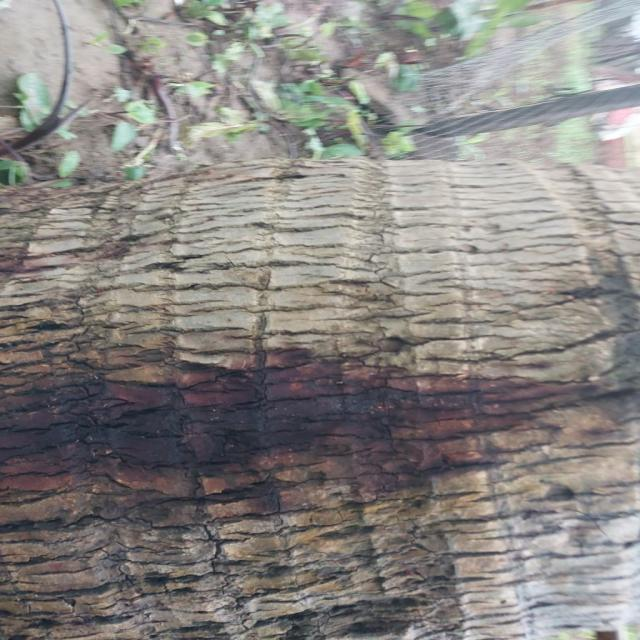stembleeding: (12, 302, 600, 525)
